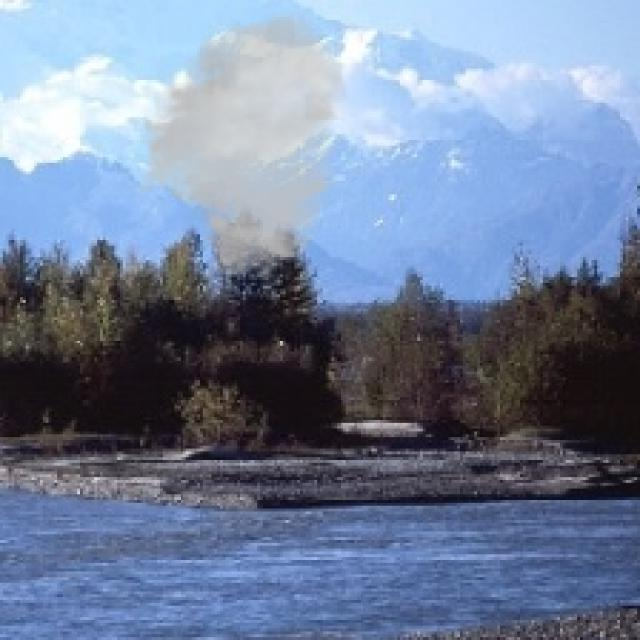smoke: (134, 9, 349, 280)
